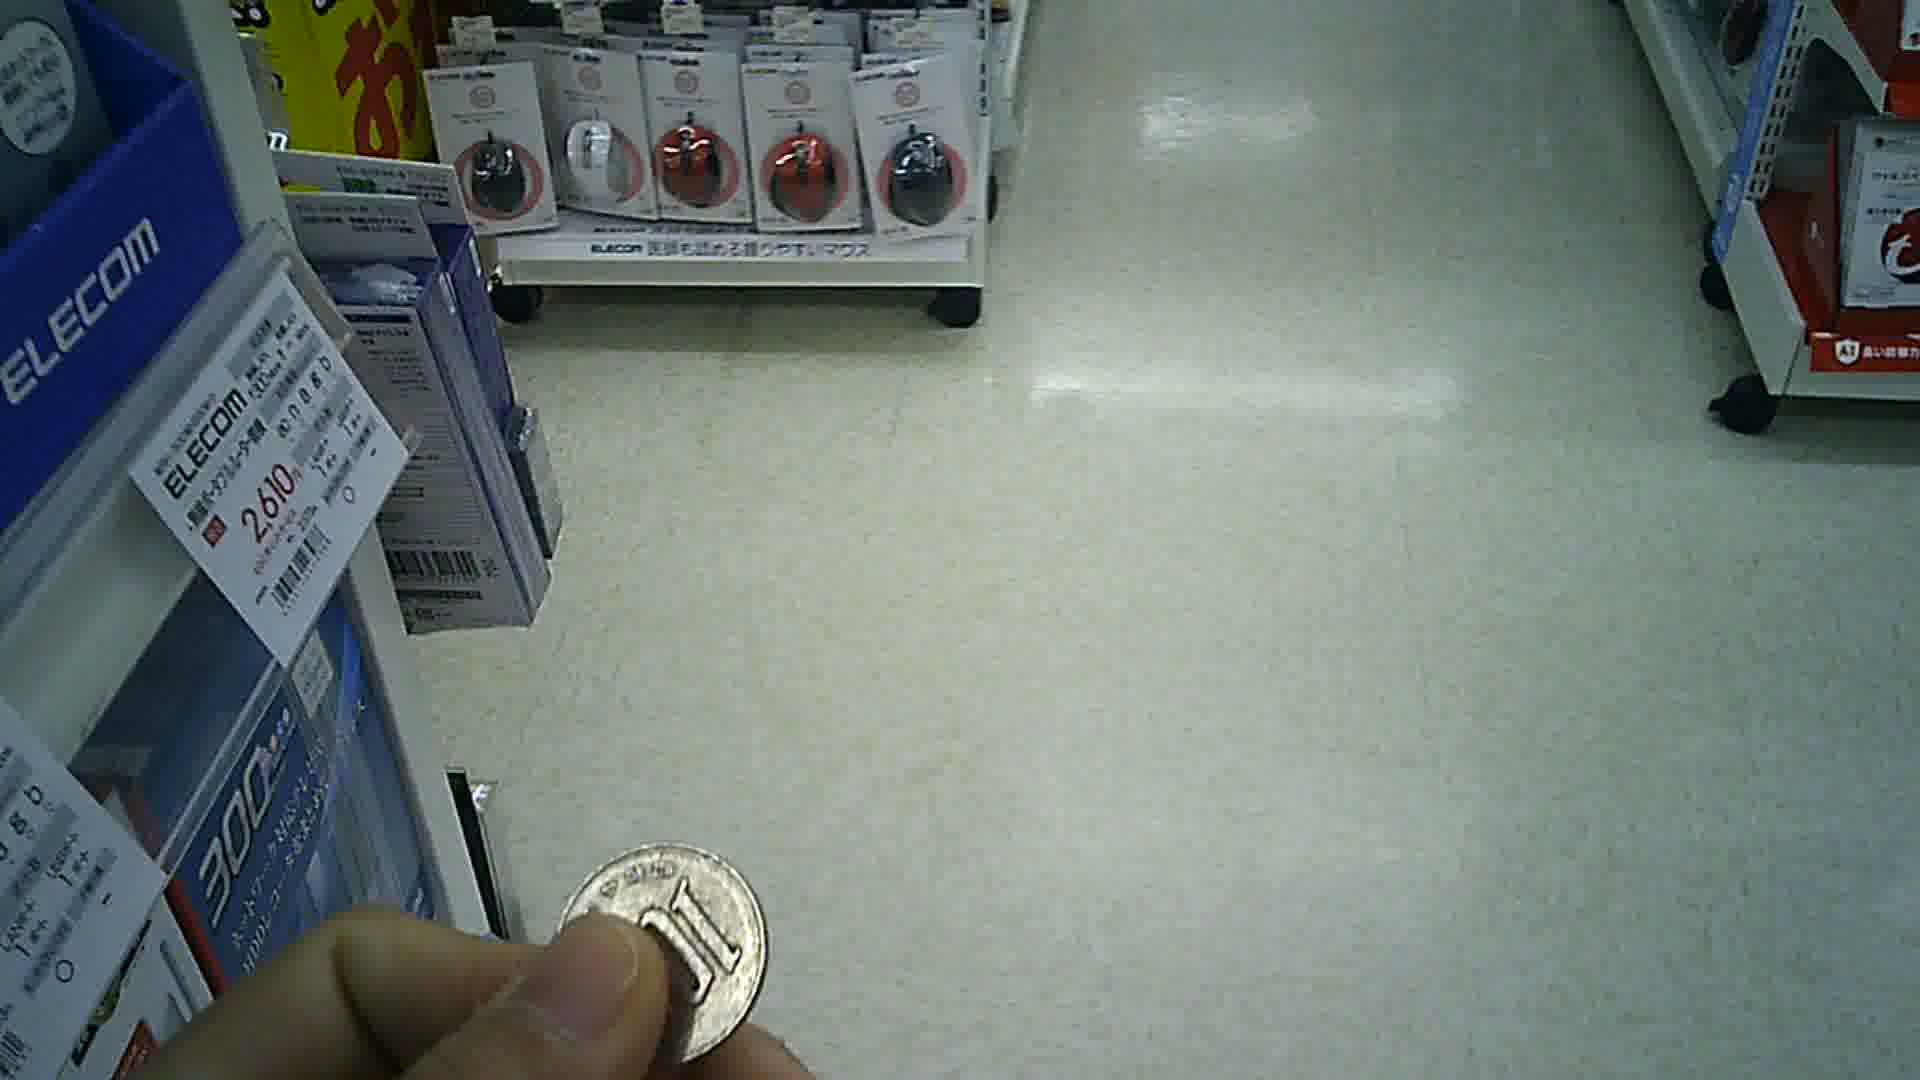100 Yen: (546, 833, 771, 1065)
